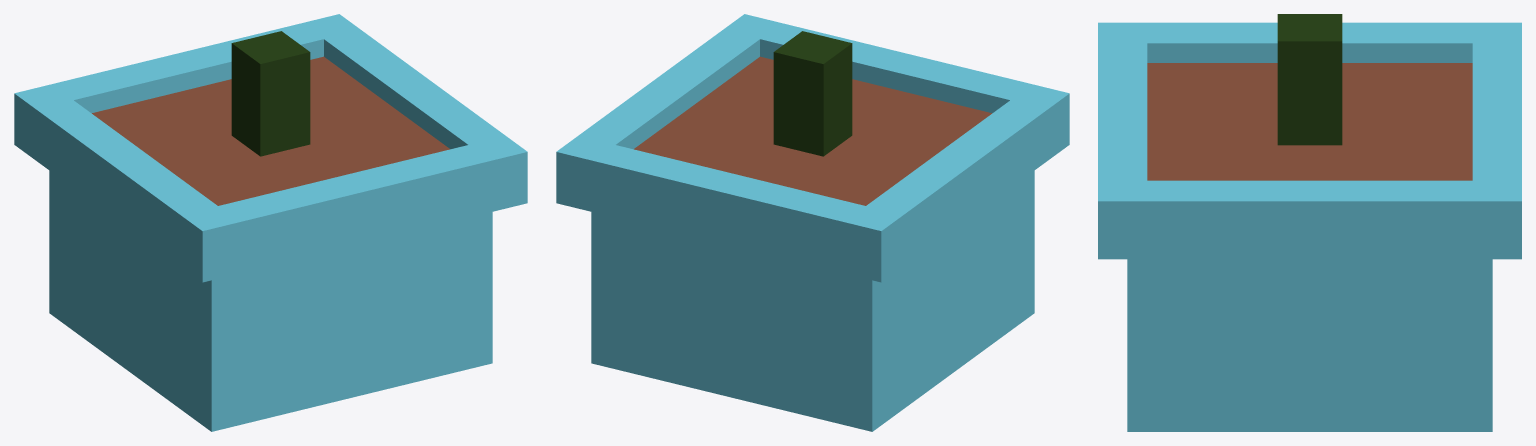
3 renders of one model, left to right at view 1: azimuth 30°, elevation 25°; view 2: azimuth 150°, elevation 25°; view 3: azimuth 270°, elevation 25°, orthographic. The views are drawn at different scales.
Visible parts, largest first — view 1: Plane; view 2: Plane; view 3: Plane.
Boxes of the visible parts, x1,y1,x2,y2 form: Plane: [14, 14, 527, 431]; Plane: [556, 14, 1069, 431]; Plane: [1098, 14, 1521, 431].
Bounding box in the file's own units: 171 × 146 × 171.
